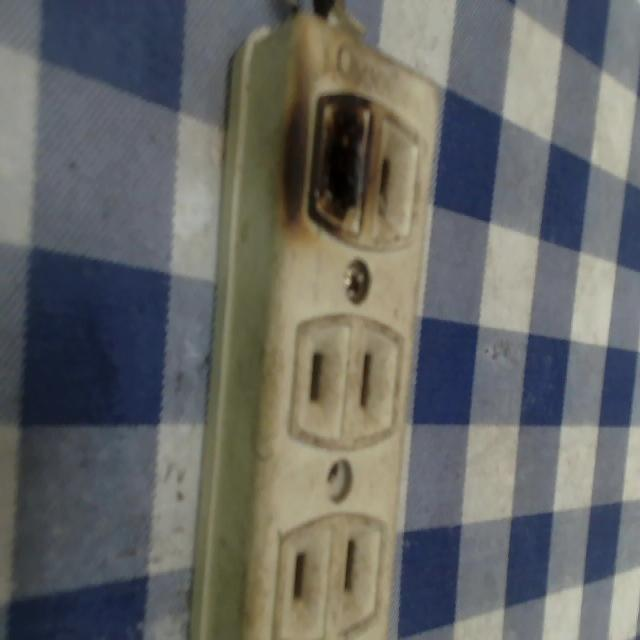-: (297, 80, 376, 247)
